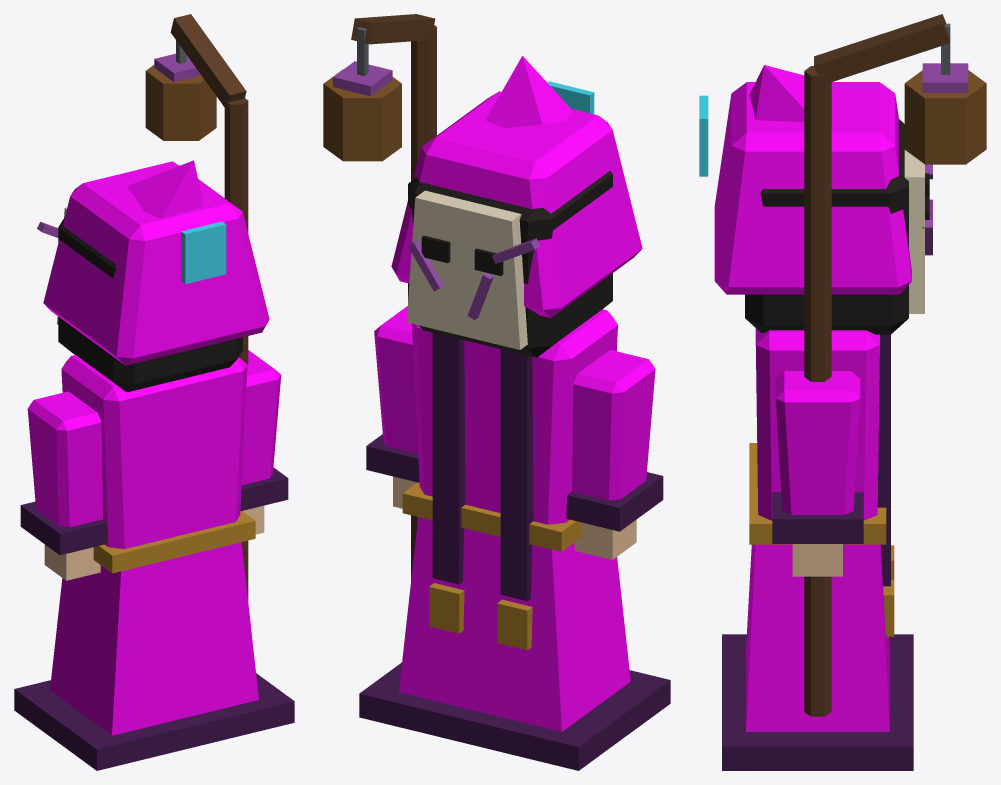
Rendered from CH_AshenOracle_VioletOracle.fbx.
3 renders of one model, left to right at view 1: azimuth 30°, elevation 25°; view 2: azimuth 150°, elevation 25°; view 3: azimuth 270°, elevation 25°, orthographic. The views are drawn at different scales.
Visible parts, largest first — view 1: Robe, Hood, Body, Hem, ArmL, Head, Censer, ArmR, Belt, Pole, HoodTip, Hook (+5 smaller); view 2: Robe, Hood, Body, Mask, Hem, ArmL, StoleL, StoleR, Head, Censer, ArmR, HoodTip (+12 smaller); view 3: Hood, Robe, Pole, Hem, ArmR, Body, Head, Censer, Hook, CuffR, StoleR, HoodTip (+6 smaller).
Boxes of the visible parts, x1,y1,x2,y2 form: Robe: (50, 542, 258, 735); Hood: (43, 161, 269, 365); Body: (61, 355, 247, 548); Hem: (14, 673, 294, 770); ArmL: (27, 391, 102, 527); Head: (58, 217, 242, 392); Censer: (145, 65, 216, 140); ArmR: (241, 350, 281, 485); Belt: (93, 511, 255, 573); Pole: (224, 98, 248, 600); HoodTip: (127, 160, 203, 218); Hook: (170, 14, 246, 106); Robe: (399, 517, 630, 731); Hood: (391, 91, 642, 317); Body: (412, 309, 617, 524); Mask: (406, 190, 527, 349); Hem: (359, 662, 670, 770); ArmL: (572, 350, 655, 500); StoleL: (500, 349, 533, 600); StoleR: (432, 332, 465, 584); Head: (408, 171, 612, 357); Censer: (323, 69, 401, 161); ArmR: (374, 306, 417, 453); HoodTip: (485, 56, 572, 128); Hood: (714, 82, 911, 294); Robe: (746, 544, 889, 731); Pole: (804, 66, 831, 716); Hem: (722, 634, 913, 770); ArmR: (775, 371, 860, 514); Body: (755, 328, 879, 520); Head: (745, 119, 908, 334); Censer: (904, 70, 986, 164); Hook: (814, 14, 950, 84); CuffR: (772, 492, 863, 543); StoleR: (877, 334, 890, 586); HoodTip: (749, 65, 804, 122).
Size of the model in its own units: 0.67 by 0.63 by 1.81.
